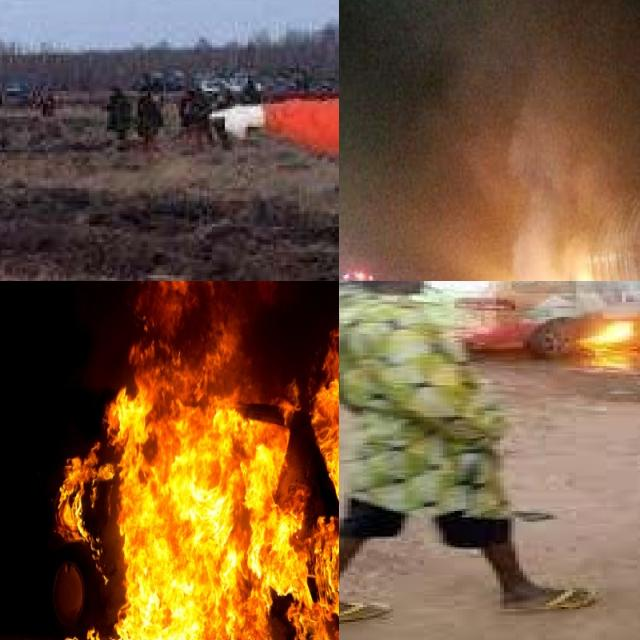fire: (50, 281, 339, 640), (568, 306, 640, 363)
smoke: (437, 0, 640, 281)
